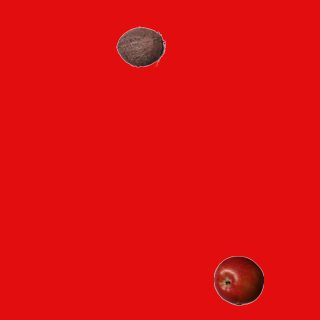Apple Braeburn: (213, 255, 263, 305)
Cocos: (115, 21, 165, 71)
